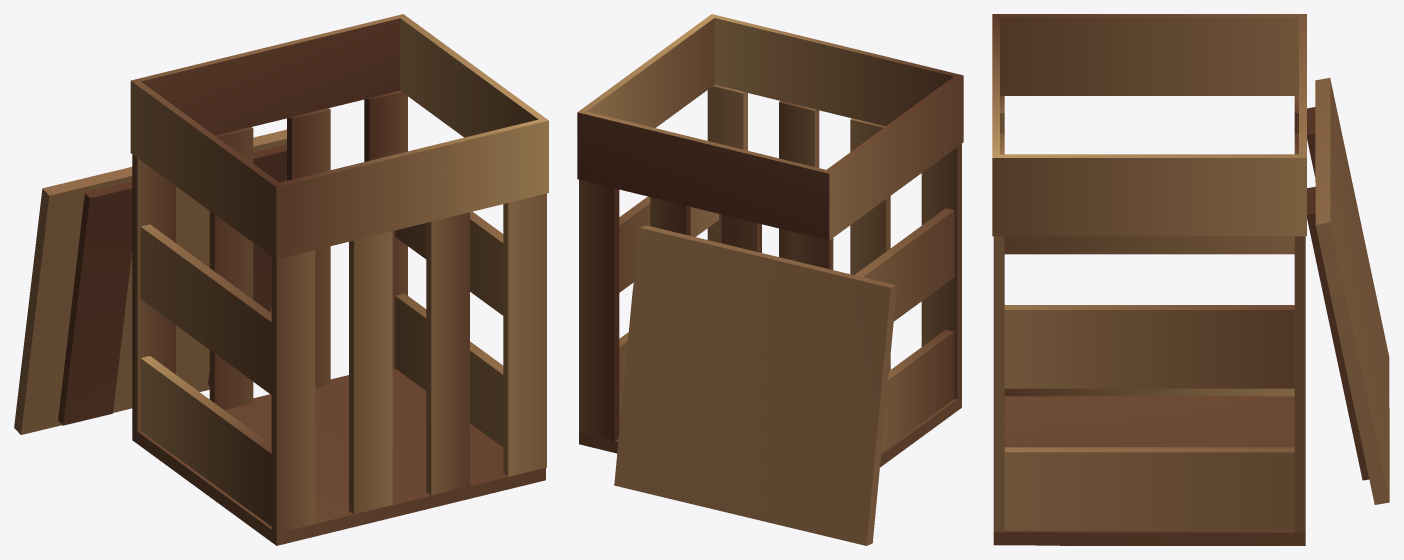
The model's file is Tall Light Crate Leaned Lid.fbx.
3 views of the same model, side by side, from view 1: azimuth 30°, elevation 25°; view 2: azimuth 150°, elevation 25°; view 3: azimuth 270°, elevation 25° (orthographic). The views are drawn at different scales.
Parts seen in each view (by area): view 1: Tall Light Crate Leaned Lid; view 2: Tall Light Crate Leaned Lid; view 3: Tall Light Crate Leaned Lid.
Boxes of the visible parts, x1,y1,x2,y2 form: Tall Light Crate Leaned Lid: [14, 14, 548, 545]; Tall Light Crate Leaned Lid: [577, 14, 963, 545]; Tall Light Crate Leaned Lid: [992, 14, 1389, 545].
Bounding box in the file's own units: 284 × 263 × 290.
Materials: 1 (1 with a texture image).
